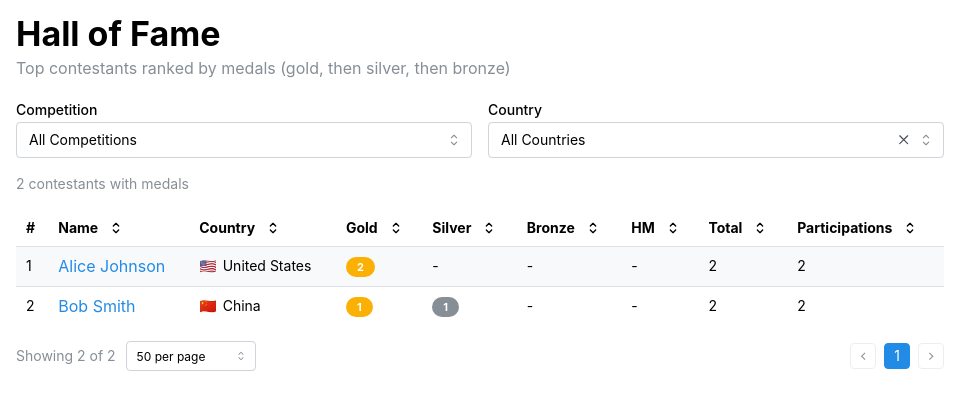
Scenario: HallOfFame › filtering › filters by competition source
The image size is (961, 413).
Check: the text "2 contestants with medals" is shown, box [16, 175, 189, 192]
Open competition filter
Click the field labelled "Competition" at (244, 140), box [16, 122, 472, 158]
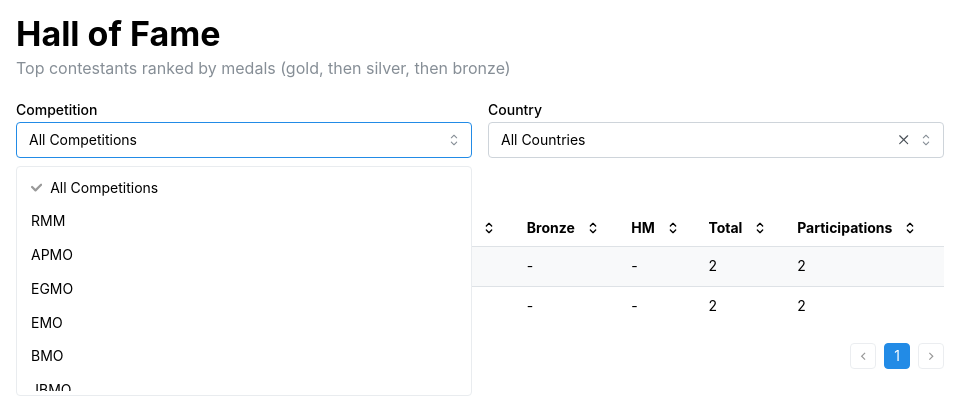
Wait for options to appear and select EGMO
Click the option "EGMO" at (52, 288), box [31, 280, 73, 297]
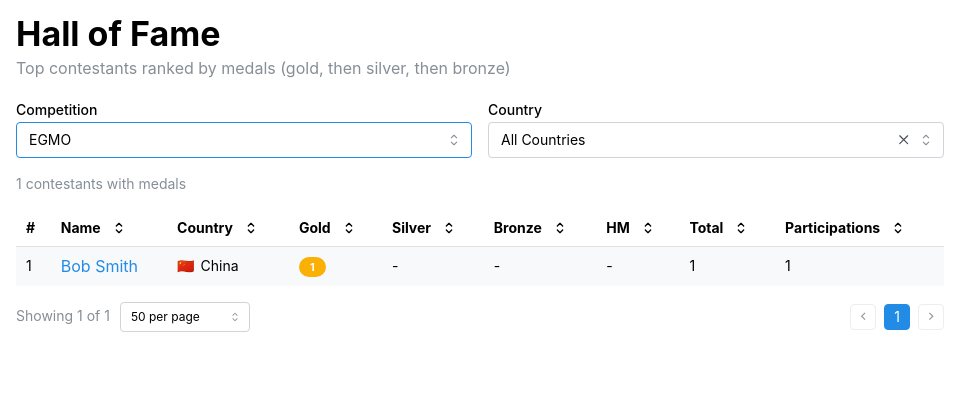
Check: the text "1 contestants with medals" is shown, box [16, 175, 186, 192]
Check: the link "Bob Smith" is shown, box [61, 256, 138, 276]
Check: the link "Alice Johnson" is gone
